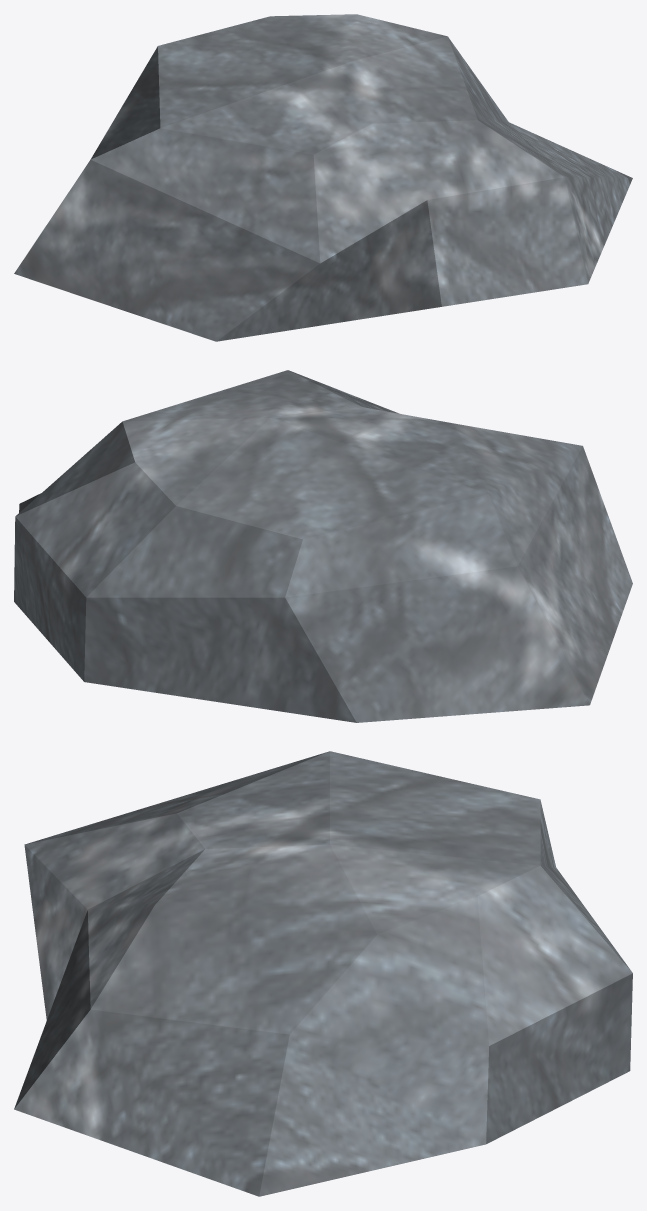
File: RockE.fbx
3 renders of one model, top to bottom at view 1: azimuth 30°, elevation 25°; view 2: azimuth 150°, elevation 25°; view 3: azimuth 270°, elevation 25°, orthographic. The views are drawn at different scales.
Parts seen in each view (by area): view 1: RockE; view 2: RockE; view 3: RockE.
Boxes of the visible parts, left/top/right/bottom form: RockE: left=14, top=14, right=632, bottom=341; RockE: left=14, top=370, right=632, bottom=722; RockE: left=14, top=751, right=632, bottom=1196.
Bounding box in the file's own units: 250 × 67.08 × 190.
